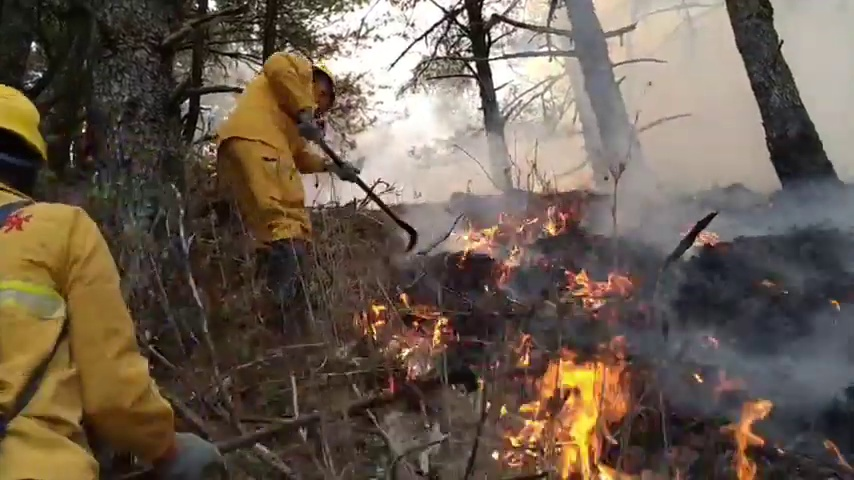fire: (512, 351, 628, 480), (722, 397, 772, 480), (575, 271, 608, 312), (466, 224, 499, 246), (542, 207, 566, 234), (430, 319, 442, 345), (366, 304, 389, 317)
